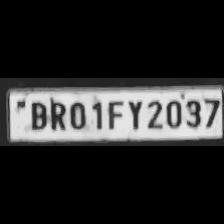0: (66, 98, 88, 130), (163, 97, 183, 128)
1: (87, 98, 105, 130)
2: (142, 96, 164, 130)
3: (182, 96, 202, 128)
7: (201, 95, 221, 129)
B: (26, 98, 46, 130)
F: (104, 98, 124, 130)
R: (46, 98, 66, 132)
Y: (122, 97, 144, 130)
